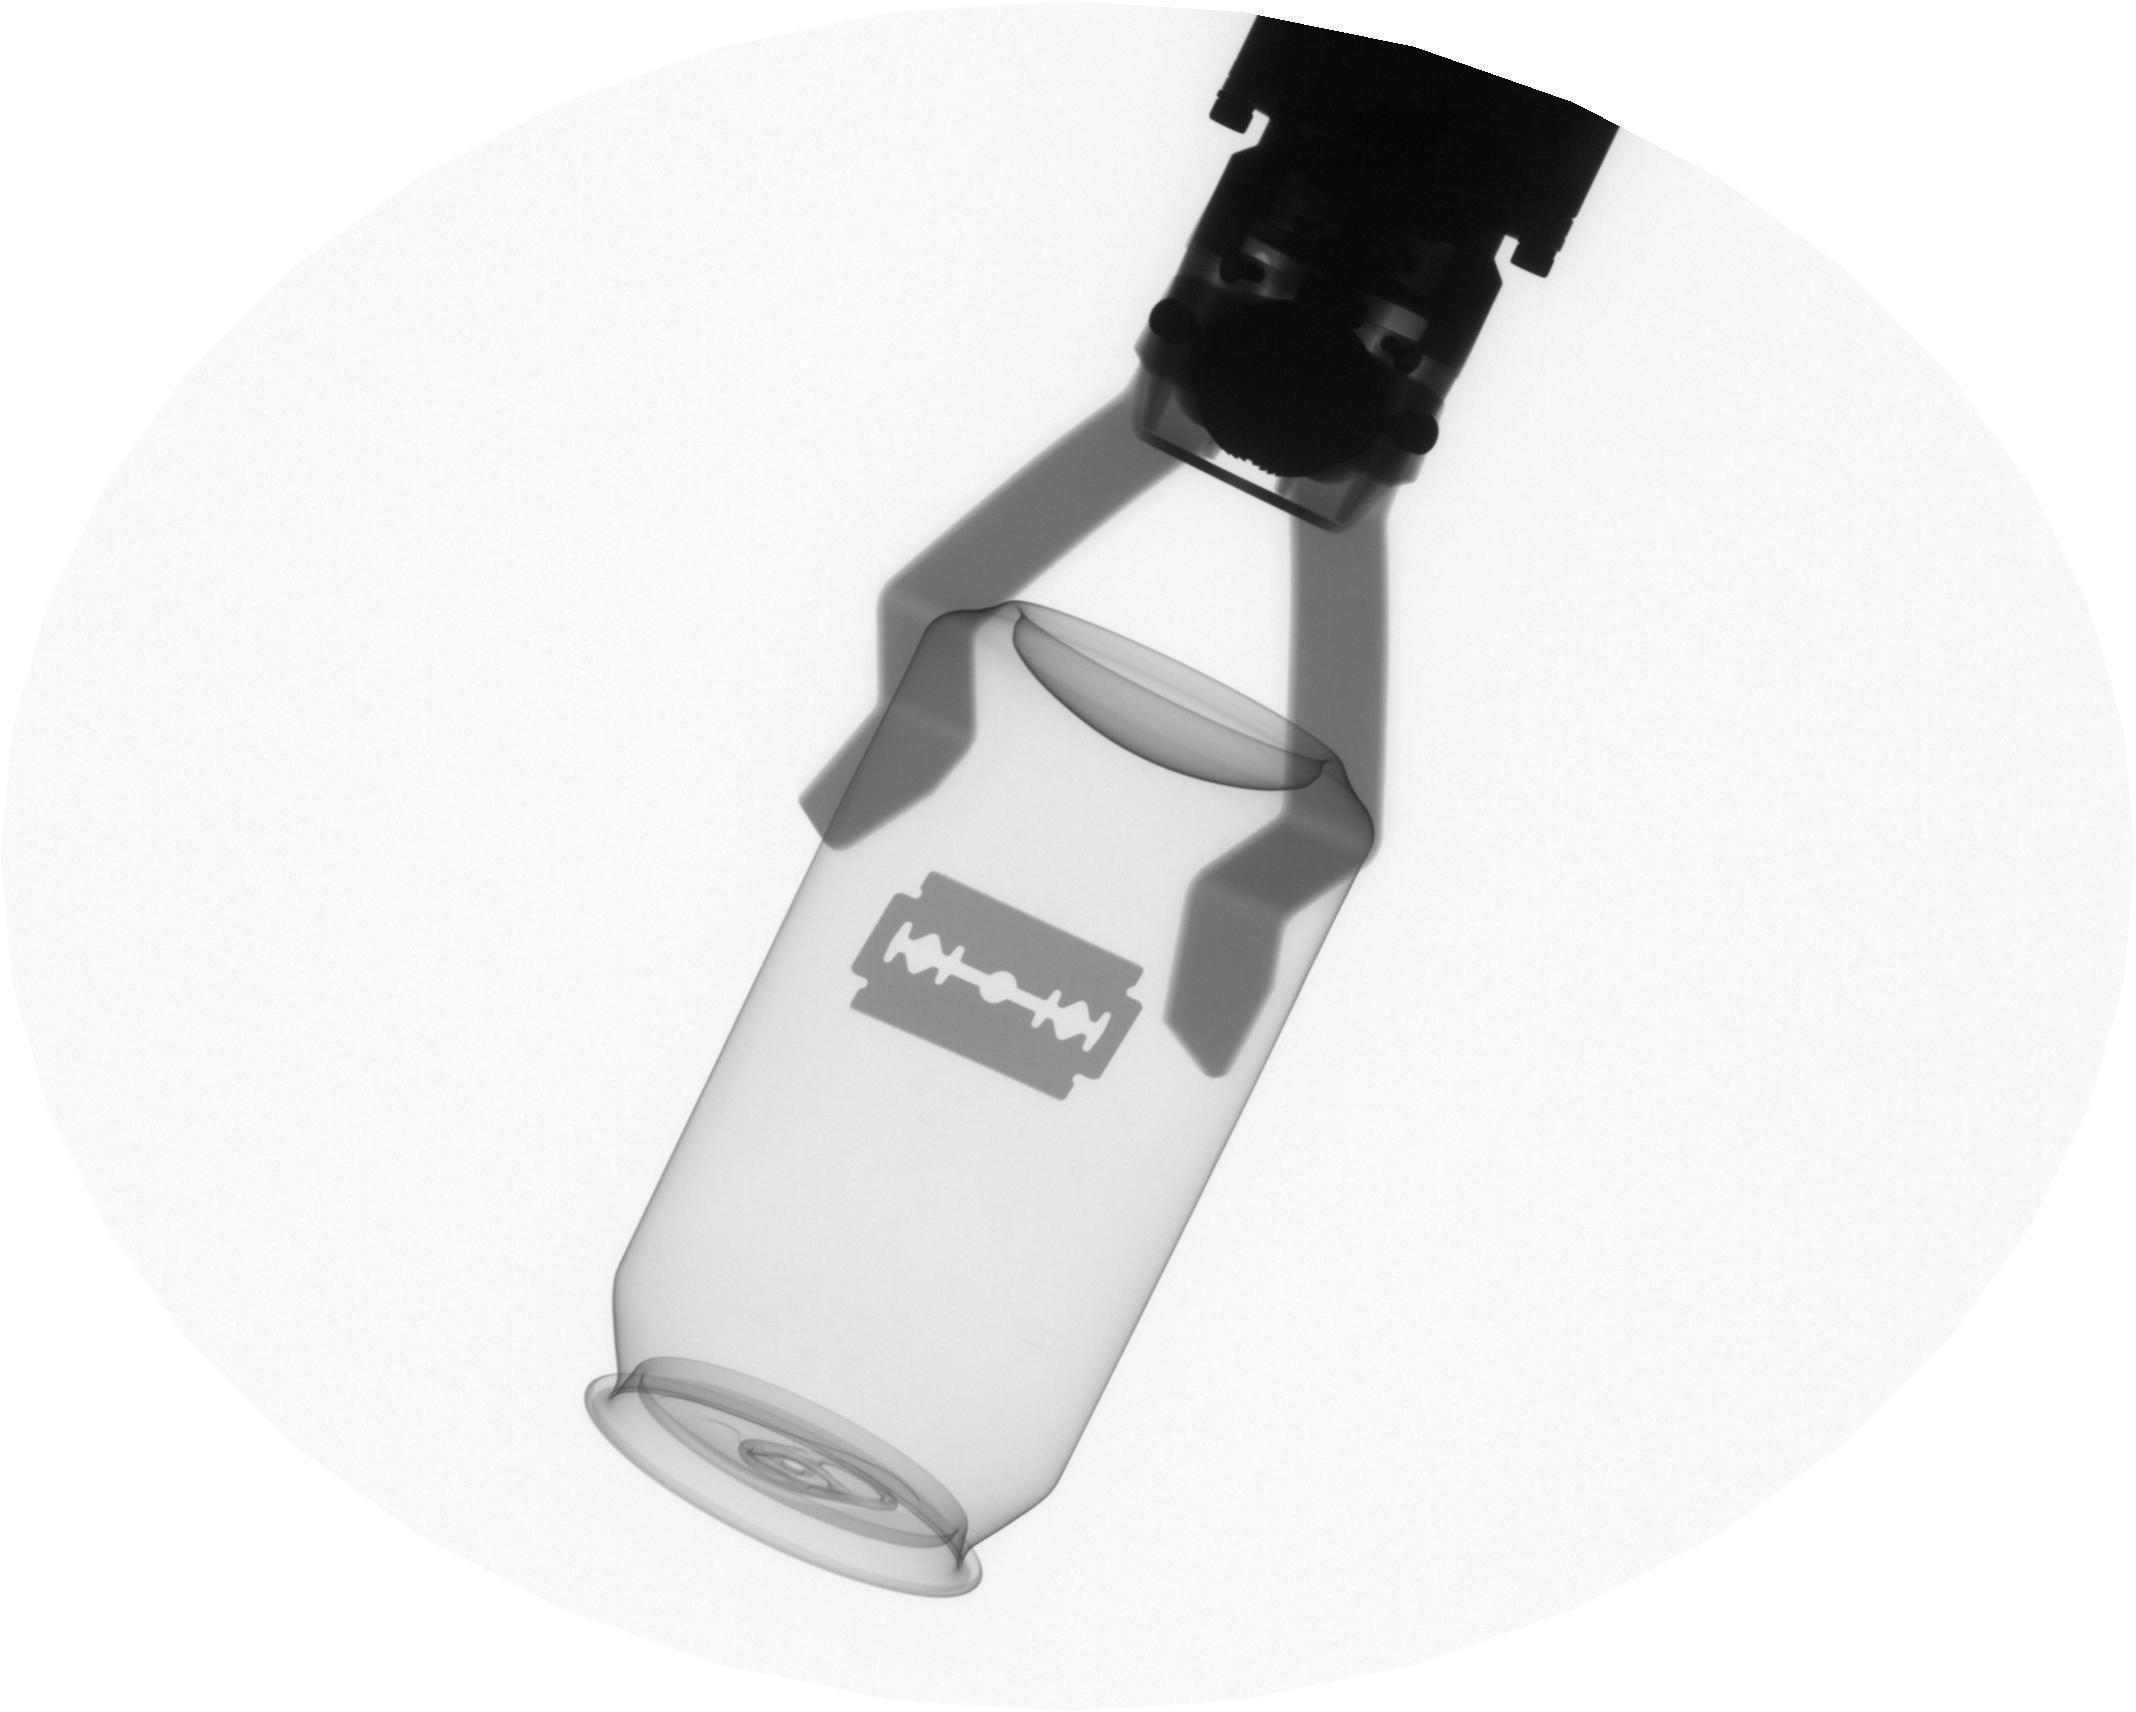RazorBlade: (842, 865, 1156, 1108)
